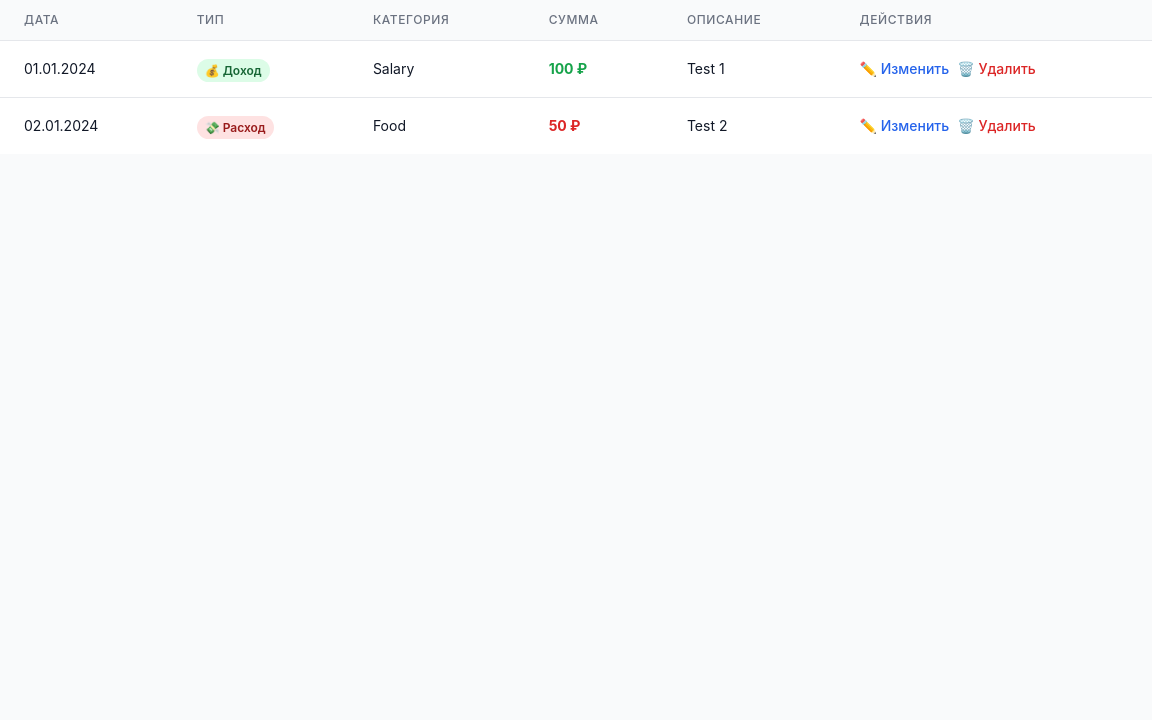
Test: TransactionList › closes confirmation modal when cancel clicked
What coordinates should you click on to do the following:
click the button "🗑️ Удалить" in the row of "01.01.2024"
I would click on:
 (996, 69)
Its box is [957,59,1036,79].
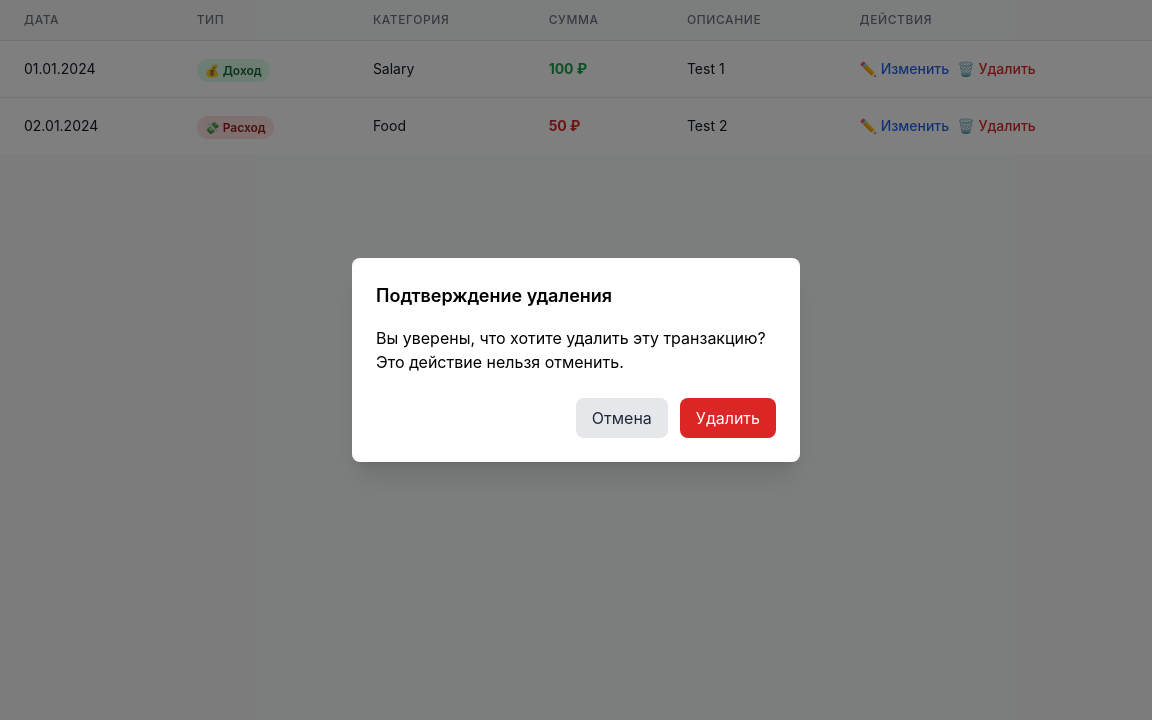
expect the heading "Подтверждение удаления" is shown: met, box [376,285,612,306]
What coordinates should you click on to do the following:
click the button "Отмена"
I would click on:
 (622, 418)
Its box is [576,398,668,438].
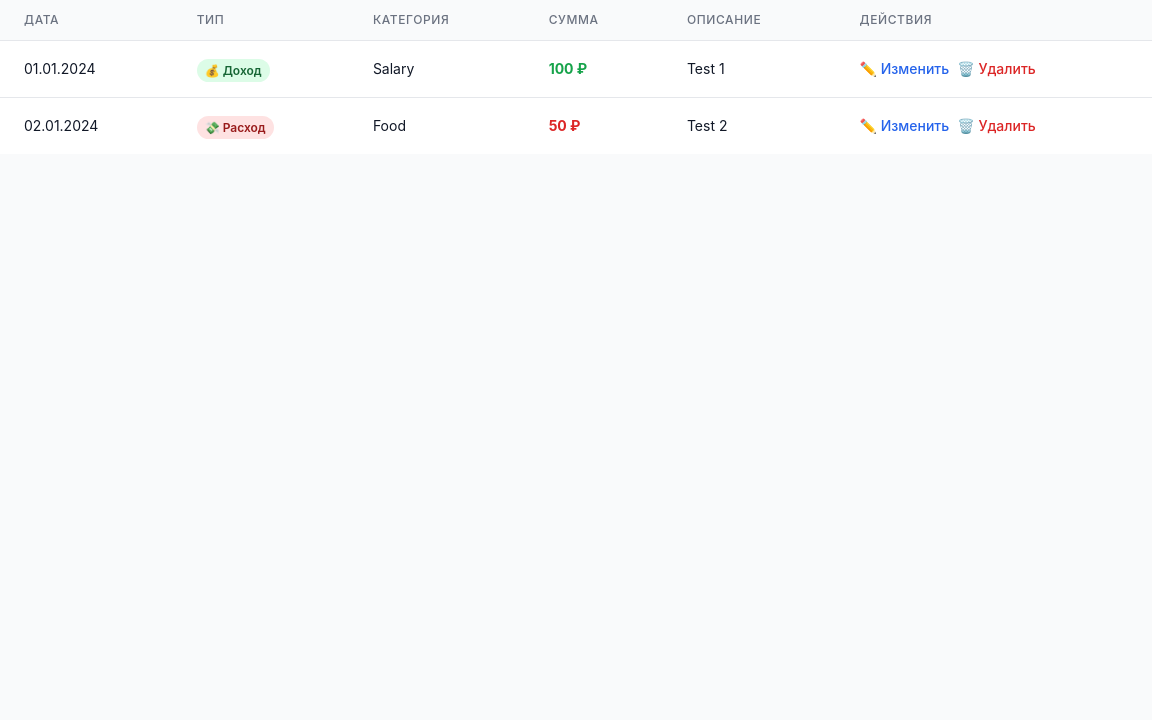
expect the heading "Подтверждение удаления" is gone: met
